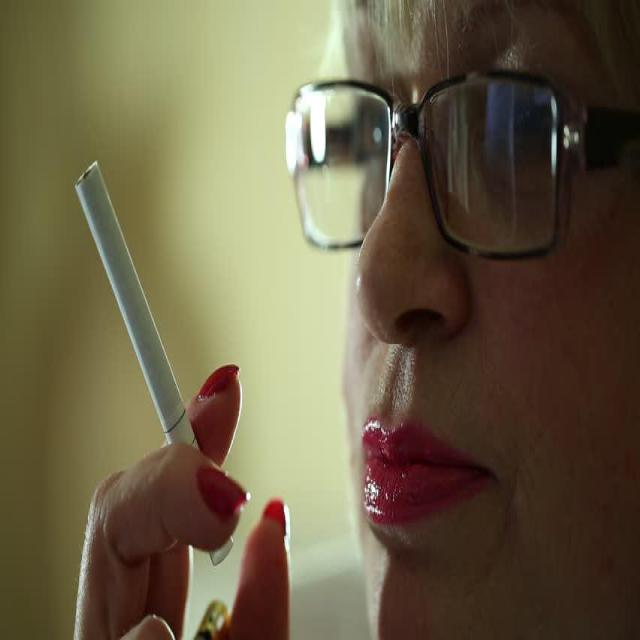cigarette: (49, 139, 242, 548)
